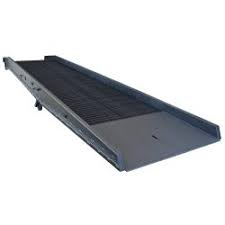Yard Ramp: (2, 55, 223, 174)
